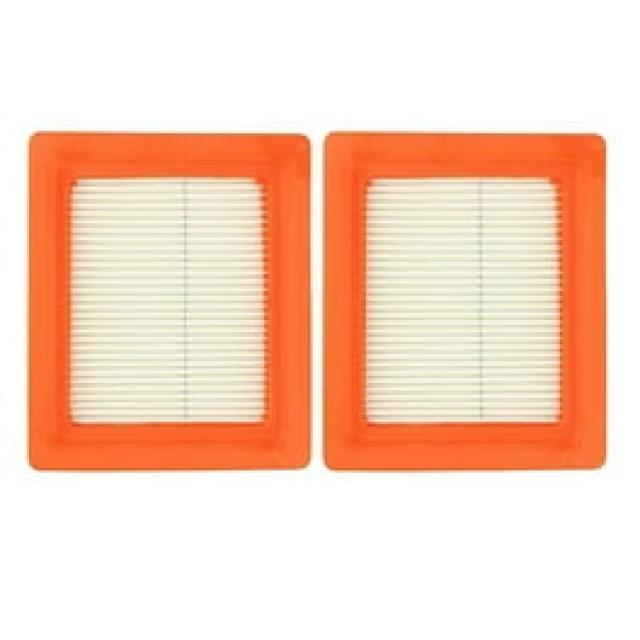air_filter: (322, 126, 611, 476), (24, 128, 314, 475)
